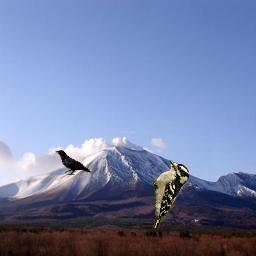Crow: (55, 150, 92, 175)
Woodpecker: (152, 160, 189, 228)
